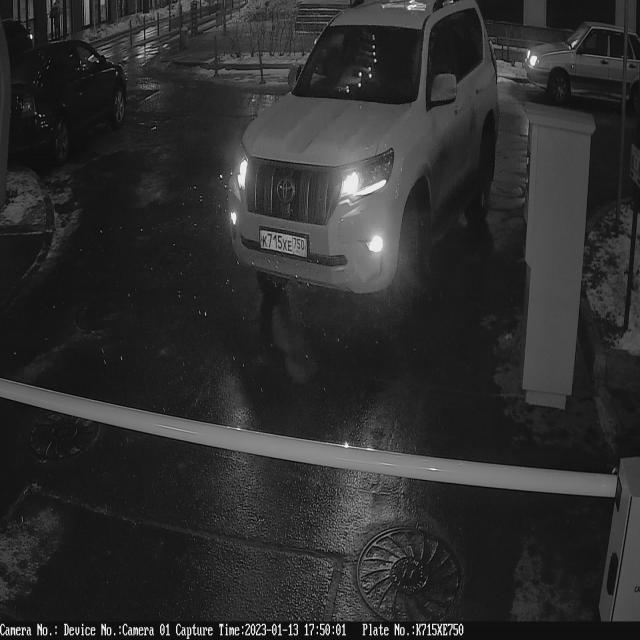car-plate-numbers: (259, 225, 311, 261)
